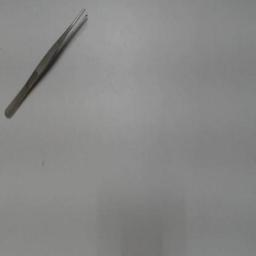Gillies Toothed Dissector: (2, 6, 94, 124)
